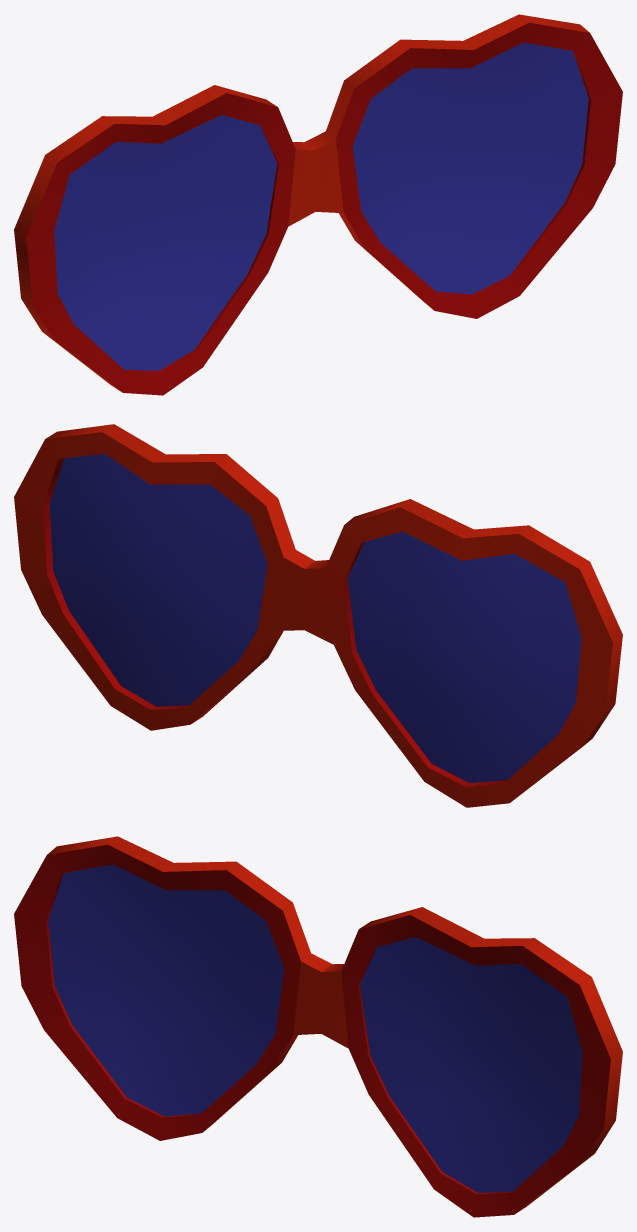
Rendered from gafas.fbx.
3 renders of one model, top to bottom at view 1: azimuth 30°, elevation 25°; view 2: azimuth 150°, elevation 25°; view 3: azimuth 330°, elevation 25°, orthographic.
Parts seen in each view (by area): view 1: sunglasses; view 2: sunglasses; view 3: sunglasses.
Boxes of the visible parts, x1=… form: sunglasses: x1=14, y1=14, x2=622, y2=395; sunglasses: x1=14, y1=424, x2=622, y2=807; sunglasses: x1=14, y1=836, x2=622, y2=1217.
Bounding box in the file's own units: 95.9 × 43.72 × 5.58.
